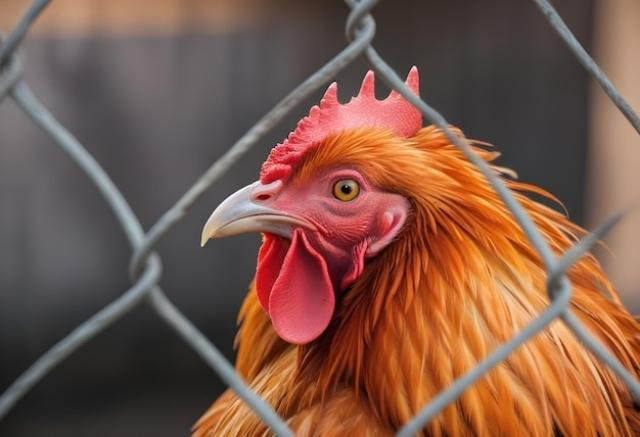Chicken: (191, 63, 640, 437)
